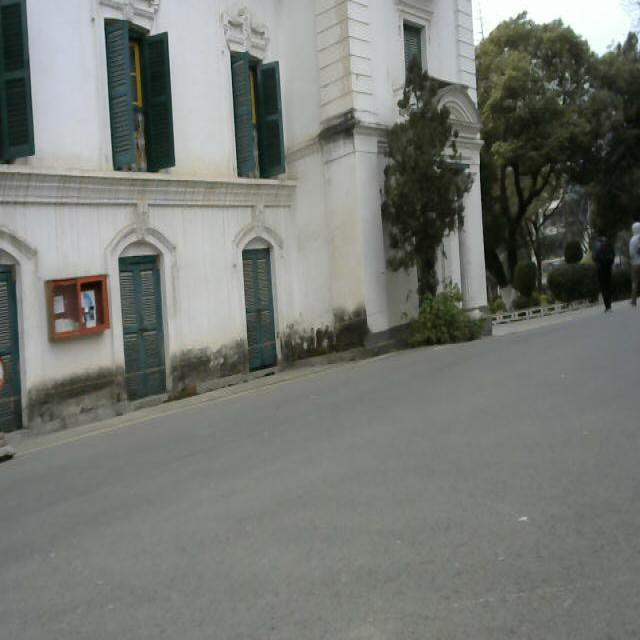Buildings: (3, 4, 373, 398)
Road: (0, 317, 640, 640)
trees: (469, 10, 636, 342), (381, 58, 487, 345)
